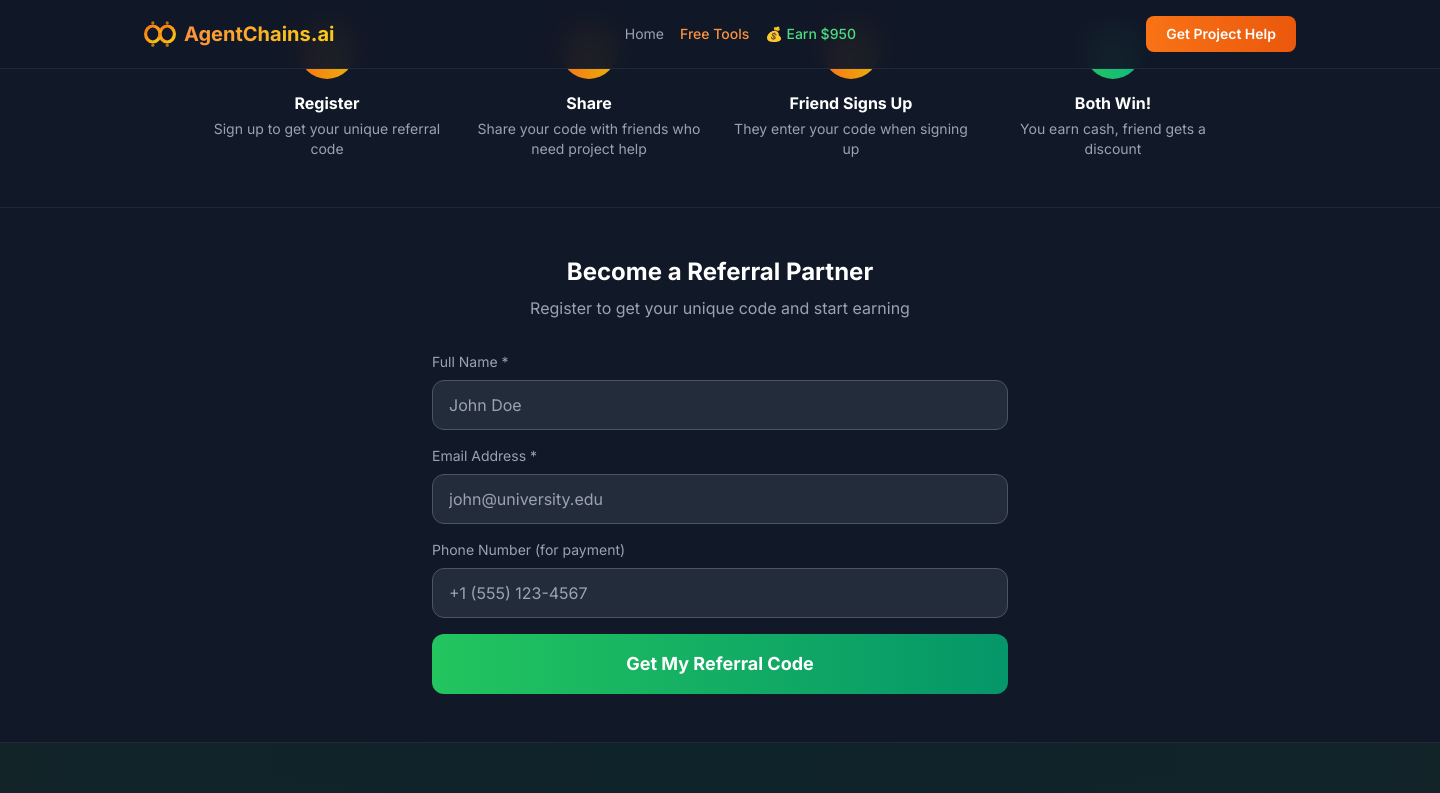
Test: Referral Page › Registration Form › shows loading state during submission
(page scrolled)
Type "Test User" into the field with placeholder "John Doe". click: point(720, 405)
box: [432,380,1008,430]
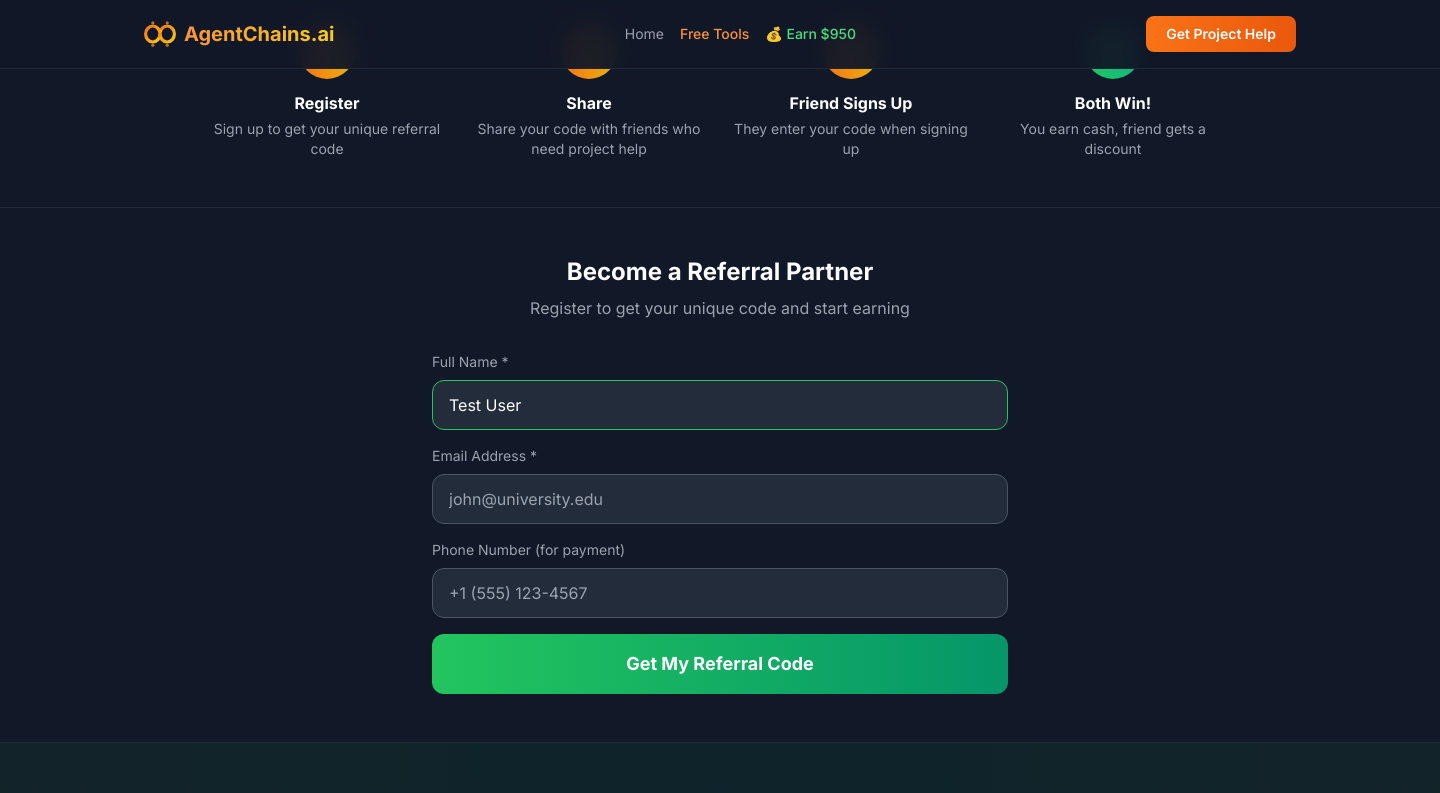
Type "test@test.com" into the field with placeholder "john@university.edu". click: point(720, 499)
box: [432,474,1008,524]
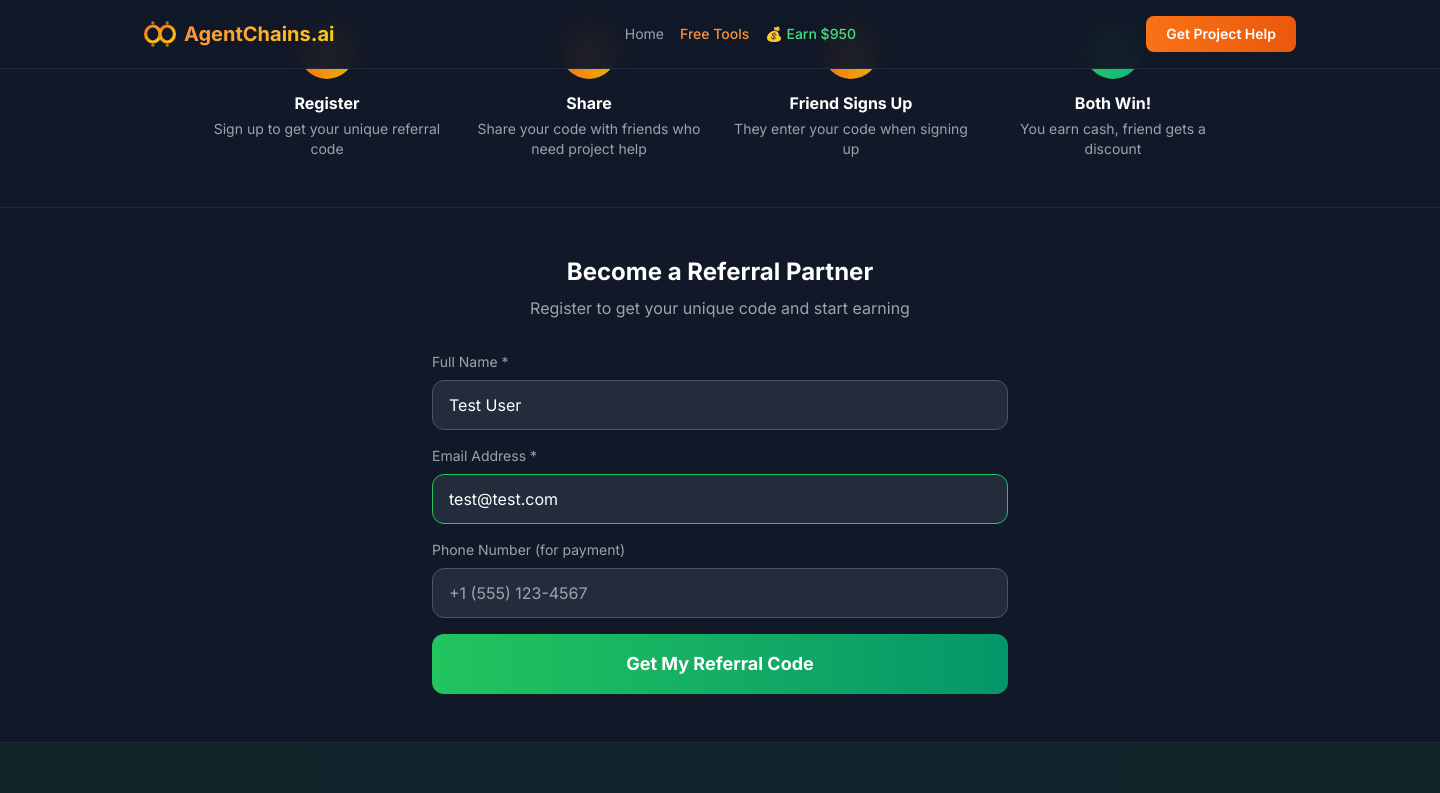
Click the button "Get My Referral Code". click: point(720, 664)
box: [432,634,1008,694]
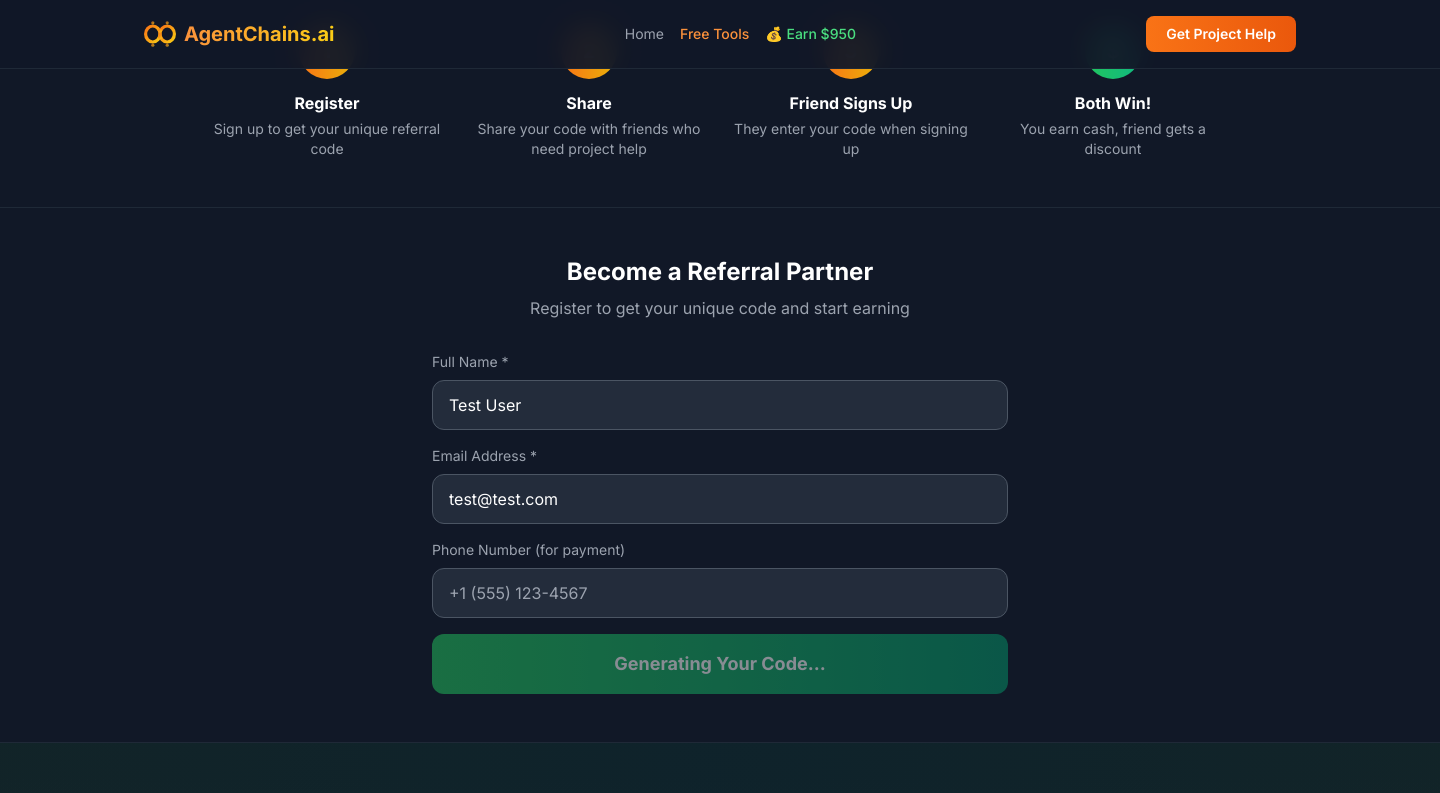
Now the button "Generating Your Code..." is shown, box [432,634,1008,694]
